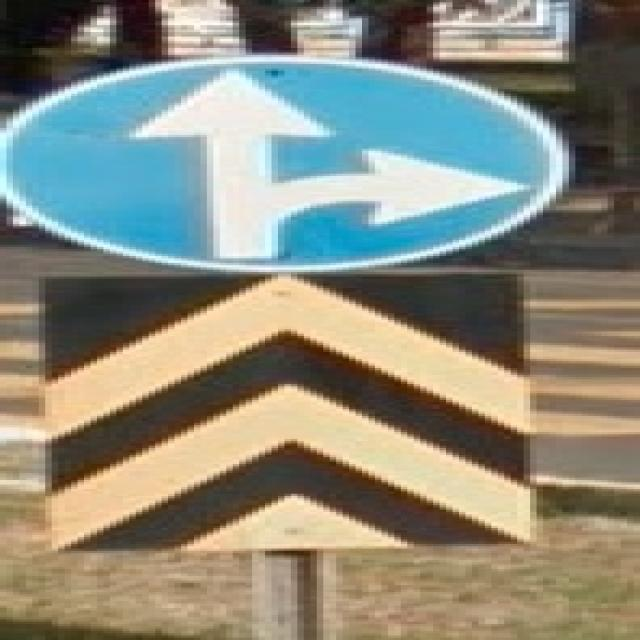Straight or Right: (11, 62, 547, 267)
